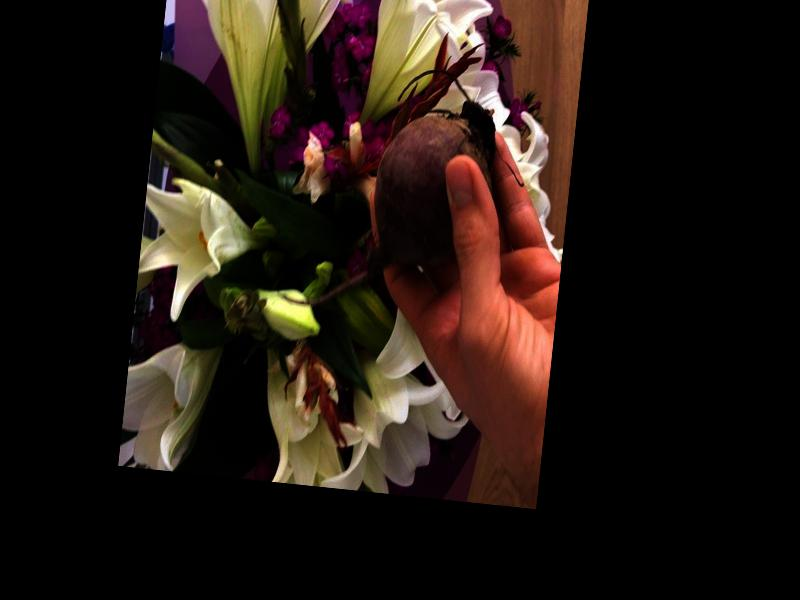Beet: (279, 55, 503, 324)
